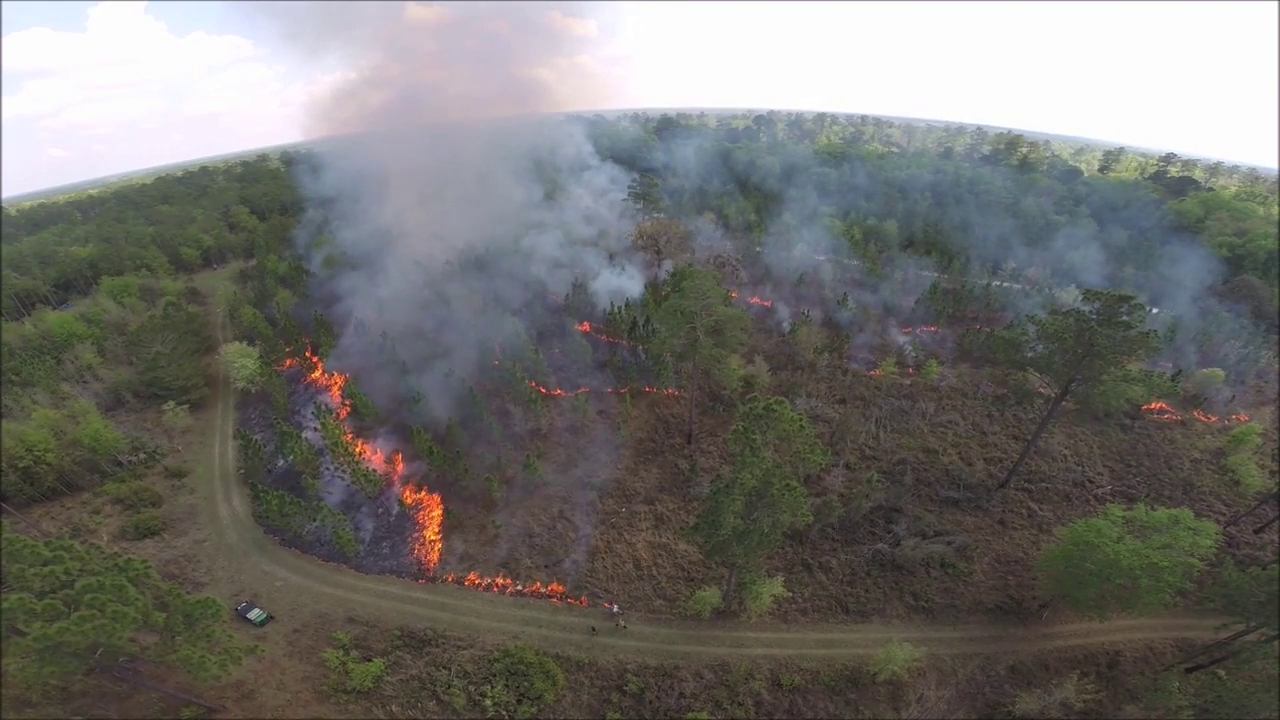forest_fire: (279, 346, 589, 606), (279, 346, 589, 605), (1141, 400, 1248, 422), (527, 381, 680, 396), (575, 320, 629, 343), (898, 325, 940, 333), (746, 296, 770, 306), (904, 366, 917, 373), (867, 368, 882, 373), (730, 292, 735, 296), (494, 358, 498, 361), (495, 346, 496, 348)
